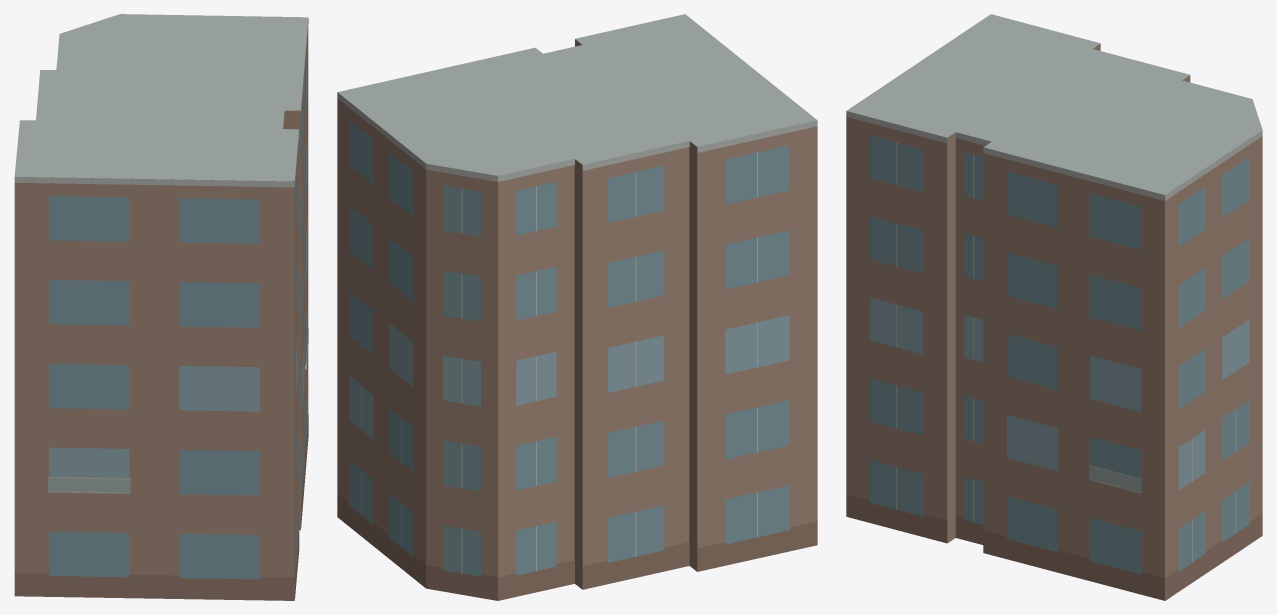
File: survey-upis-32883402.glb
3 views of the same model, side by side, from view 1: azimuth 30°, elevation 25°; view 2: azimuth 150°, elevation 25°; view 3: azimuth 270°, elevation 25° (orthographic). The views are drawn at different scales.
Parts seen in each view (by area): view 1: survey-upis-32883402.tmp; view 2: survey-upis-32883402.tmp; view 3: survey-upis-32883402.tmp.
Part boxes in pixels (x1,y1,x2,y2): survey-upis-32883402.tmp: [14, 14, 308, 600]; survey-upis-32883402.tmp: [337, 14, 817, 600]; survey-upis-32883402.tmp: [846, 14, 1262, 600].
Size of the model in its own units: 16.39 by 17.1 by 15.92.
